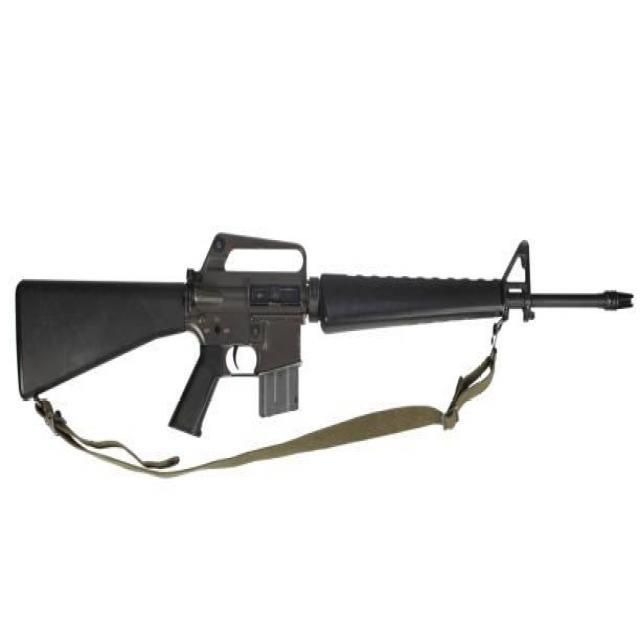weapon: (13, 232, 634, 438)
